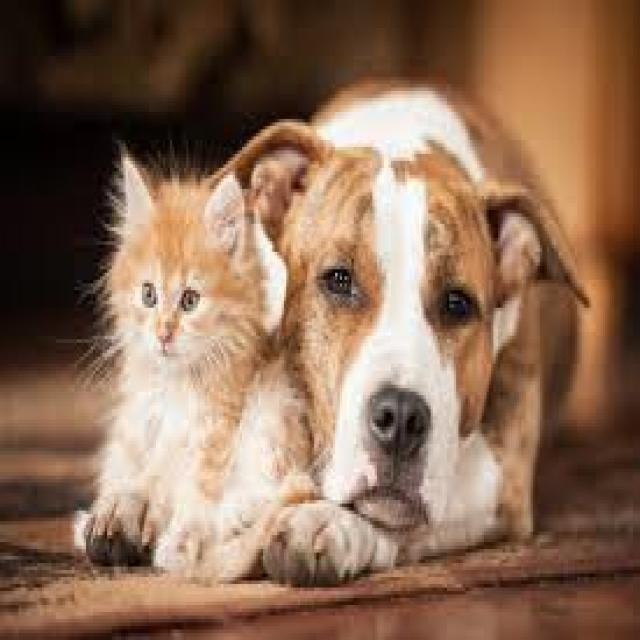cat: (72, 130, 307, 590)
dog: (272, 60, 598, 587)
